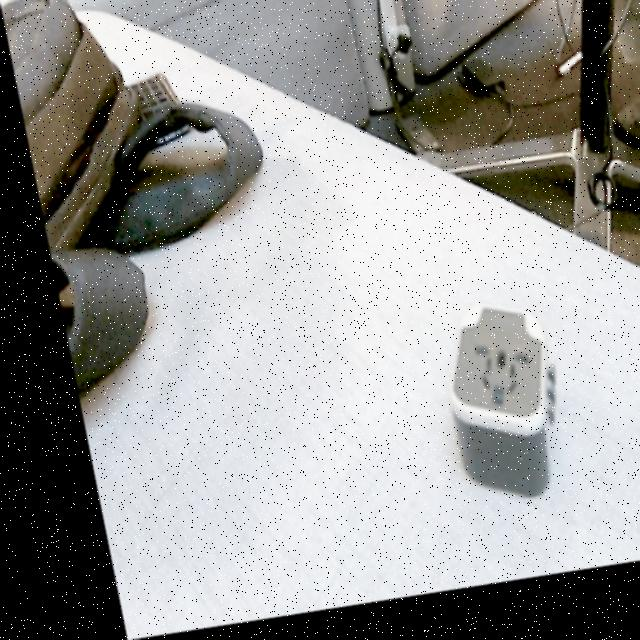adapter: (414, 307, 557, 518)
